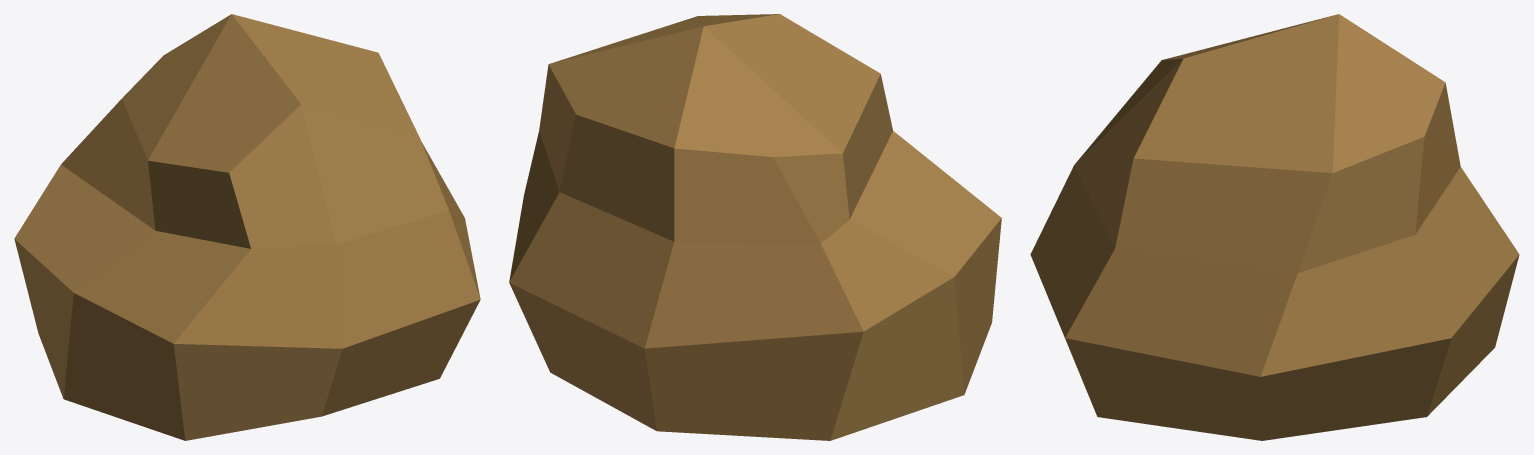
File: MudRocks006.fbx
3 renders of one model, left to right at view 1: azimuth 30°, elevation 25°; view 2: azimuth 150°, elevation 25°; view 3: azimuth 270°, elevation 25°, orthographic. The views are drawn at different scales.
Visible parts, largest first — view 1: Cube.022; view 2: Cube.022; view 3: Cube.022.
Part boxes in pixels (x1=…): Cube.022: x1=14, y1=14, x2=480, y2=440; Cube.022: x1=509, y1=14, x2=1001, y2=440; Cube.022: x1=1030, y1=14, x2=1519, y2=440.
Bounding box in the file's own units: 290 × 215 × 274.
